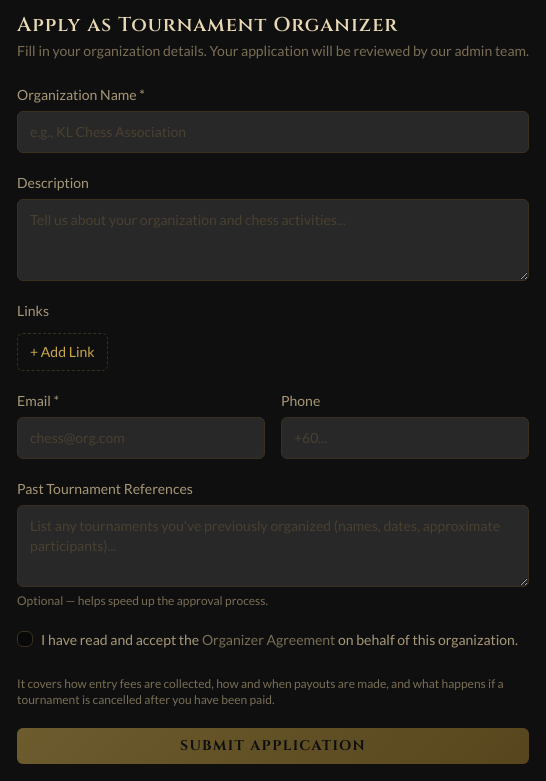
ApplyForm › handleSubmit — success › shows the success state after a successful API response
Type "Test Org" into the field with placeholder "e.g., KL Chess Association".
click(273, 132); type("Test Org")  # box [17,111,529,153]
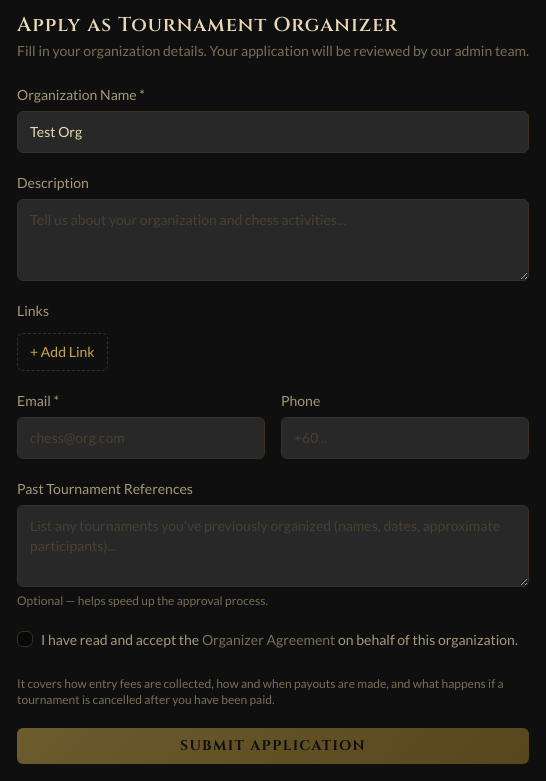
Type "test@org.com" into the field with placeholder "chess@org.com".
click(141, 438); type("test@org.com")  # box [17,417,265,459]
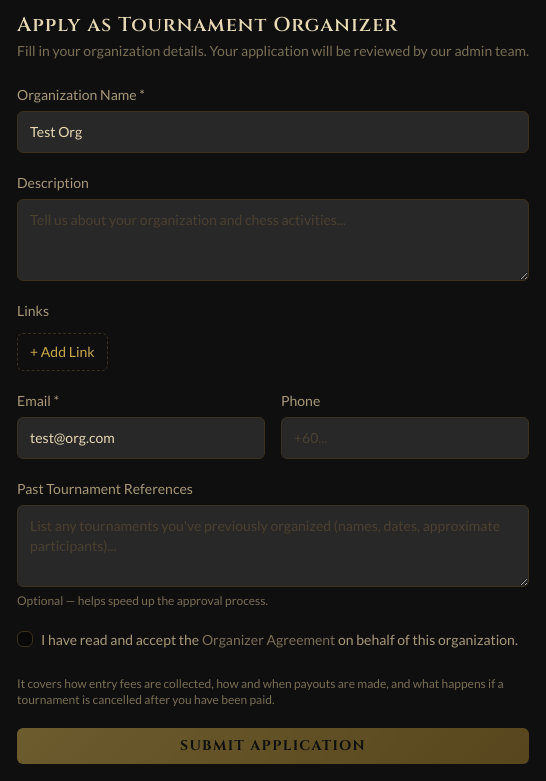
Submit the form
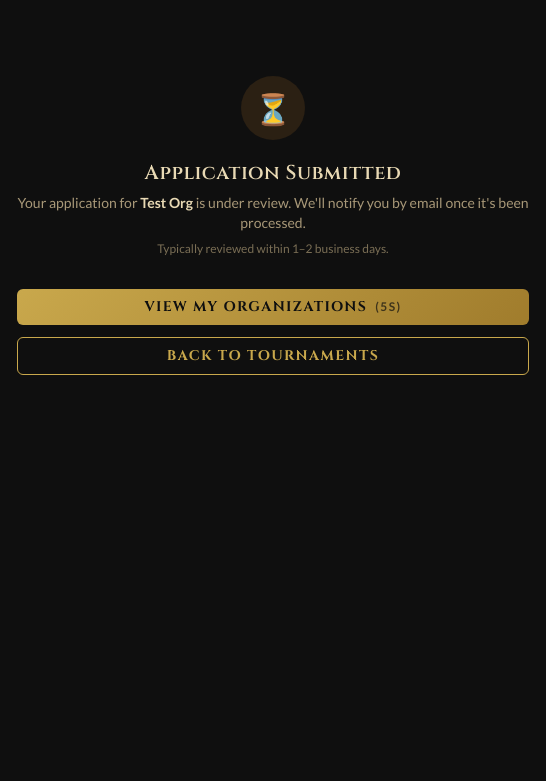
expect the heading "Application Submitted" is shown: met, box [145,159,401,186]
expect the text "Test Org" is shown: met, box [140,194,193,211]
